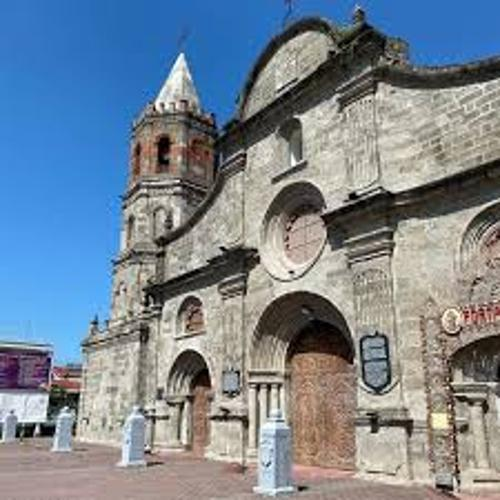Barasoain Church: (77, 7, 500, 486)
